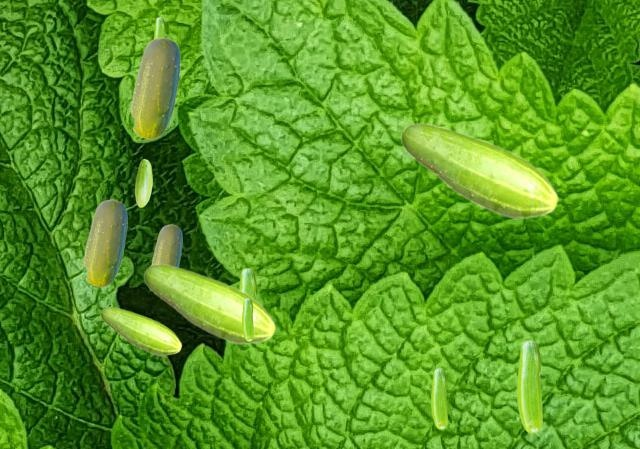cucumber: (400, 122, 558, 219), (143, 263, 275, 344), (130, 37, 179, 138), (100, 306, 181, 355), (83, 199, 126, 286), (517, 340, 541, 432), (151, 224, 181, 266), (431, 368, 446, 428), (135, 159, 151, 206), (239, 268, 256, 298), (242, 298, 252, 340), (154, 17, 164, 37)
